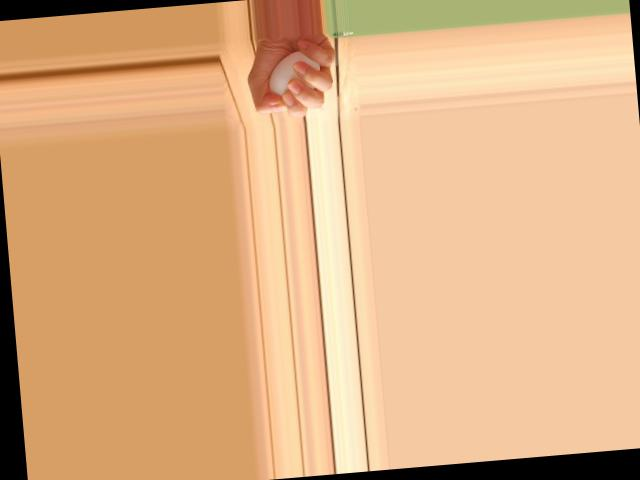egg: (266, 48, 322, 96)
